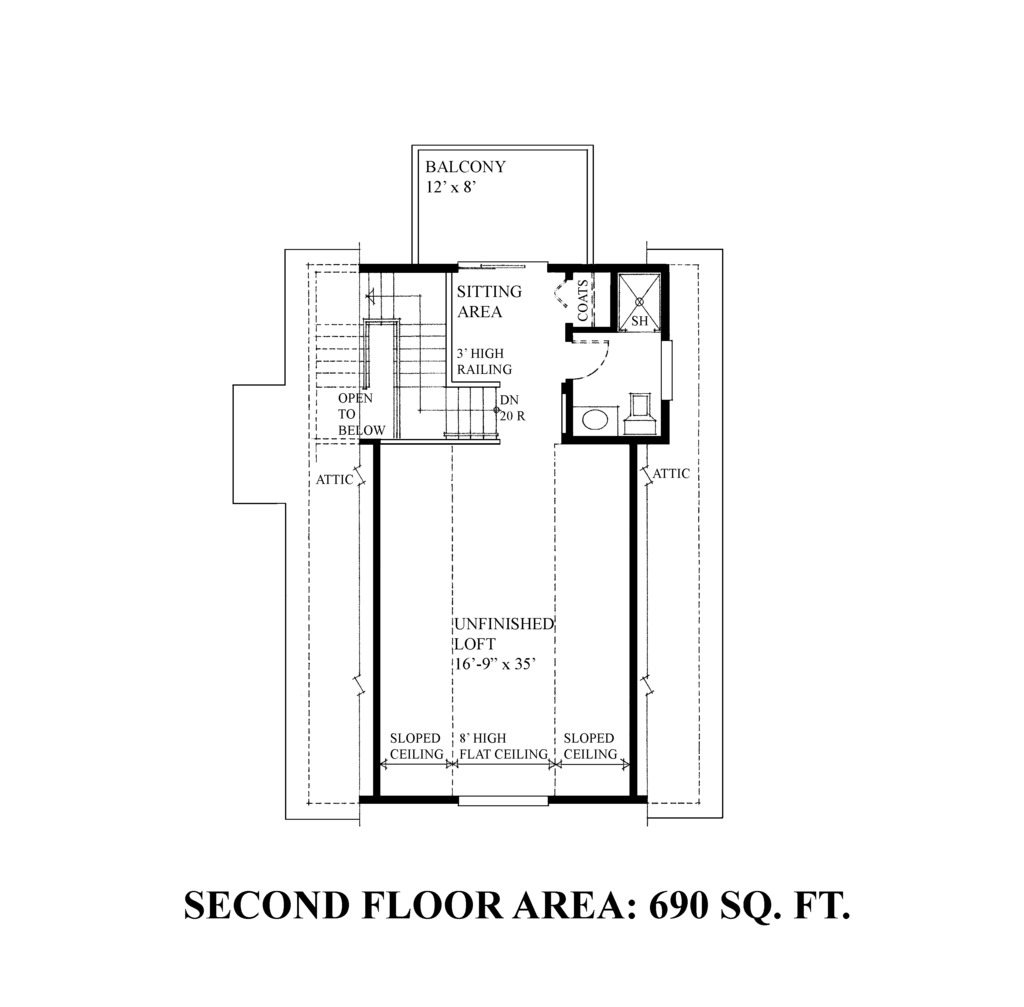door: (555, 336, 617, 383)
large_sink: (619, 386, 661, 447)
small_sink: (574, 397, 620, 436)
stairs: (363, 267, 513, 441)
window: (447, 780, 553, 814), (453, 253, 547, 277), (656, 339, 677, 410)
